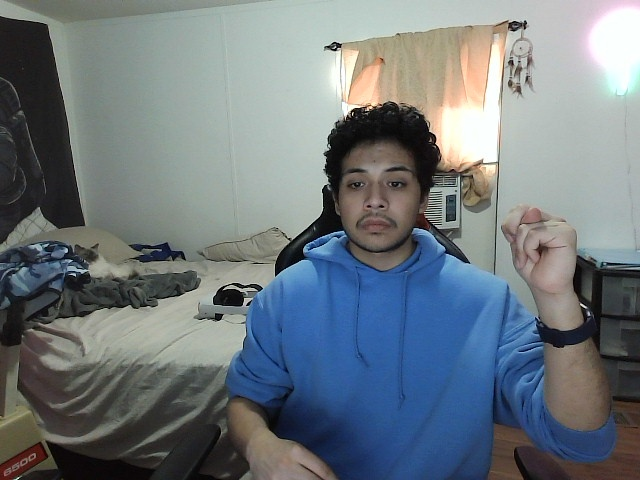N: (497, 200, 581, 293)
